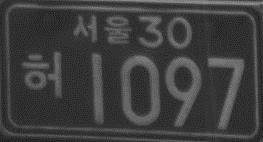0: (118, 55, 162, 125), (165, 16, 193, 49)
1: (86, 51, 109, 125)
3: (136, 14, 164, 49)
7: (206, 55, 247, 131)
9: (163, 56, 202, 129)
서울_O: (71, 12, 132, 47)
허: (21, 50, 64, 101)
